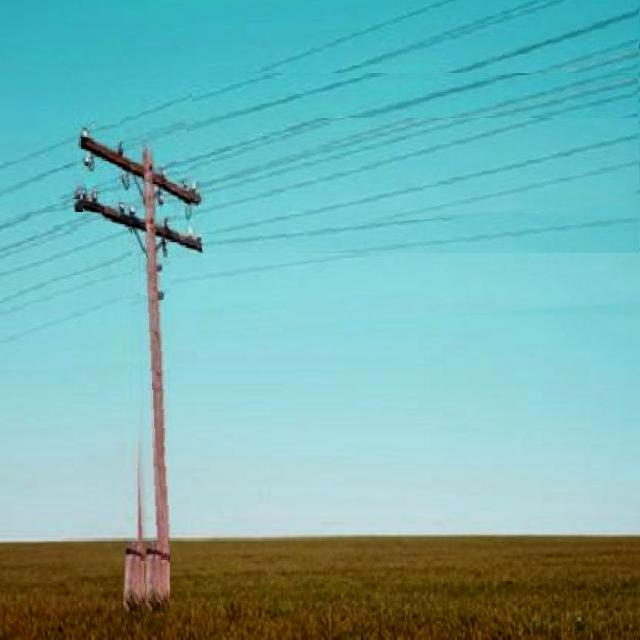crossarm: (77, 127, 202, 258)
pole: (141, 149, 170, 612)
wire: (120, 0, 587, 149), (8, 213, 639, 315), (79, 0, 501, 142), (194, 73, 638, 196), (164, 58, 638, 164), (190, 118, 580, 217), (3, 253, 410, 345), (196, 163, 566, 235), (0, 252, 140, 303), (1, 228, 132, 275), (1, 212, 103, 257), (1, 191, 83, 230), (0, 162, 81, 199), (1, 143, 70, 165), (83, 157, 90, 166)
